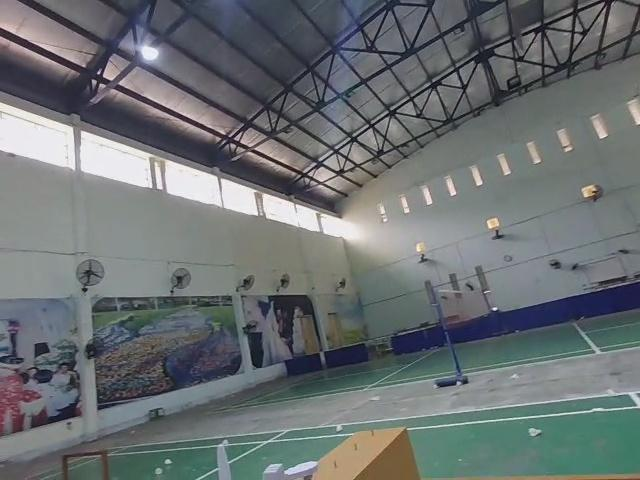Fist: (261, 458, 285, 480)
Hand: (284, 459, 322, 478)
Sph: (213, 442, 234, 480)
